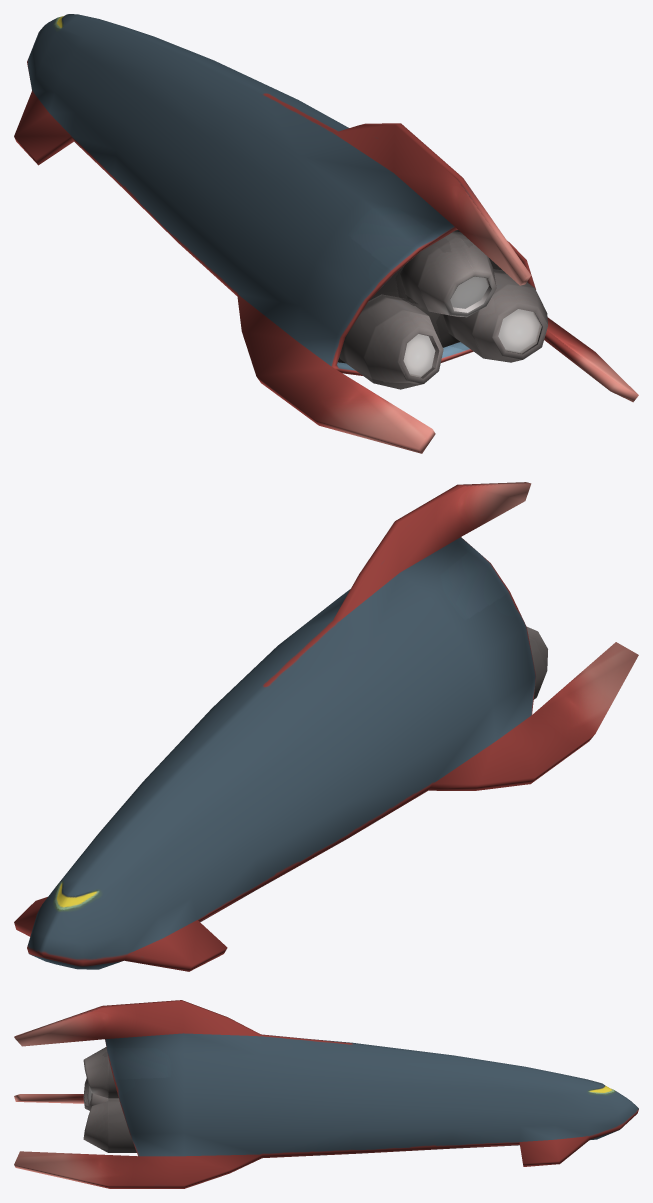
File: Ship.fbx
3 renders of one model, top to bottom at view 1: azimuth 30°, elevation 25°; view 2: azimuth 150°, elevation 25°; view 3: azimuth 270°, elevation 25°, orthographic. The views are drawn at different scales.
Visible parts, largest first — view 1: Ship; view 2: Ship; view 3: Ship.
Boxes of the visible parts, bbox=[...] form: Ship: bbox=[14, 14, 638, 453]; Ship: bbox=[14, 482, 638, 971]; Ship: bbox=[14, 1000, 638, 1188].
Bounding box in the file's own units: 30.6 × 23.81 × 92.47.
Materials: 1 (1 with a texture image).
